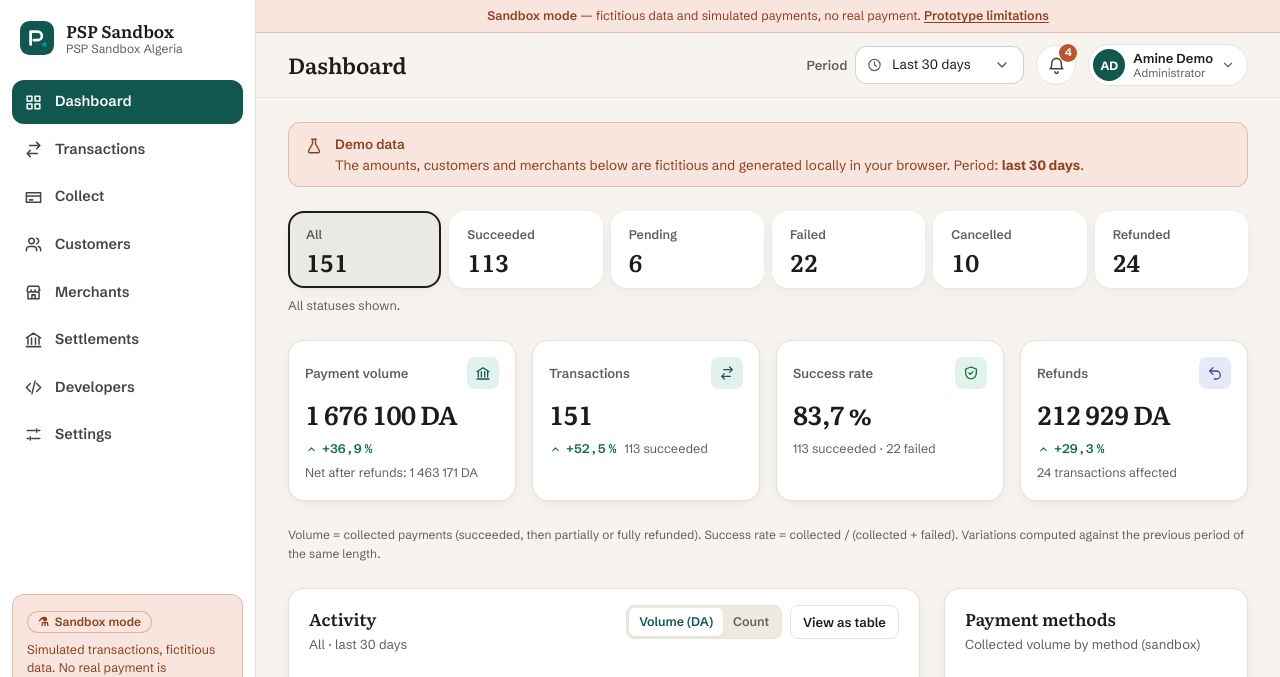
Scenario: dashboard › the status filter recomputes the number of displayed transactions
Click the button "Failed 22": click(849, 250) [772,211,925,288]
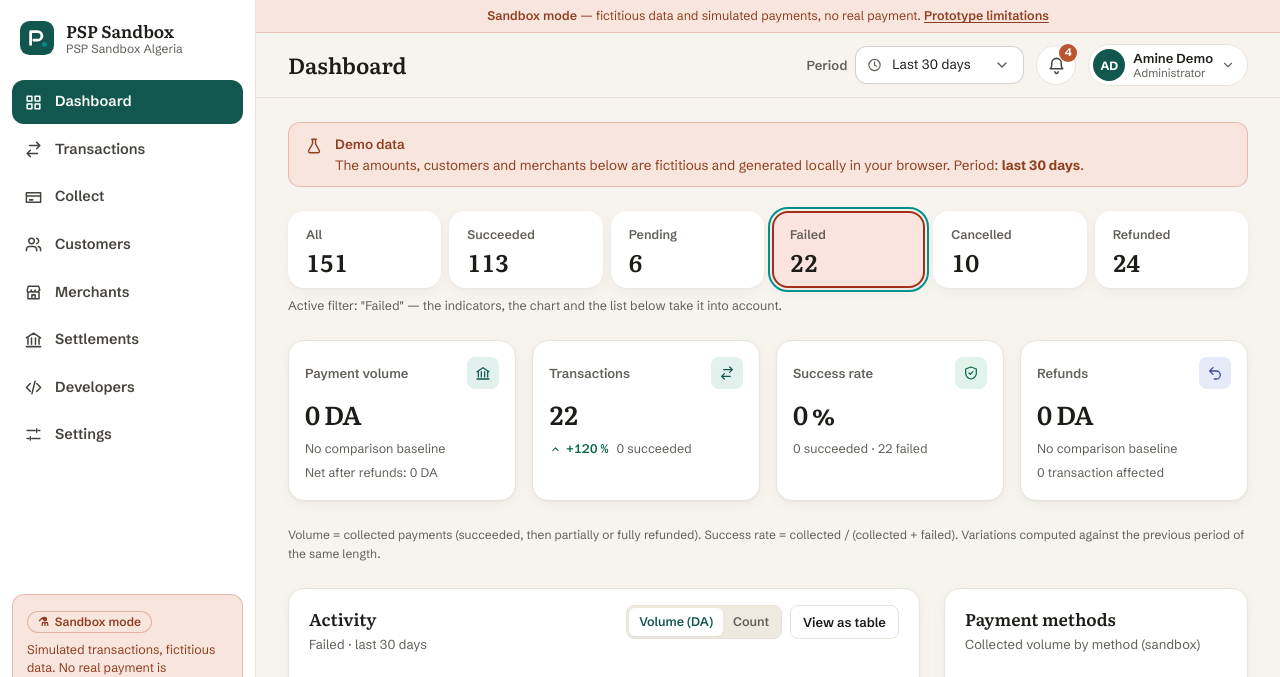
expect the text "Active filter: \"Failed\"" is shown: met, box [288,298,782,313]
